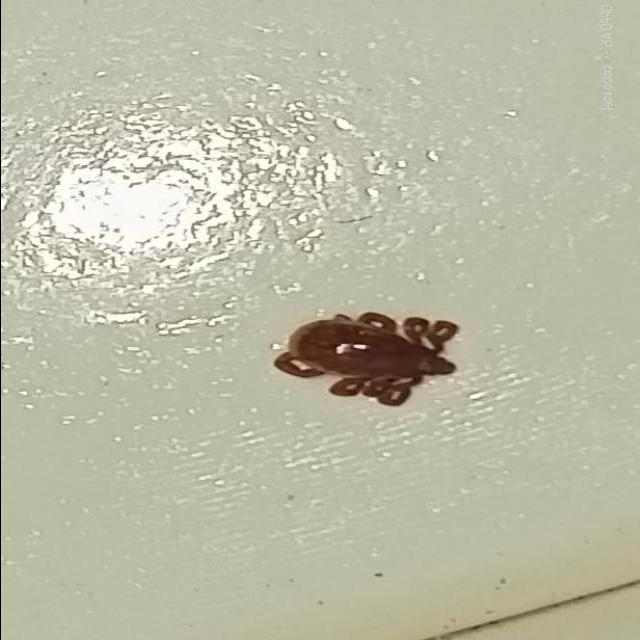Rhipicephalus Sanguineus-M: (275, 310, 459, 409)
